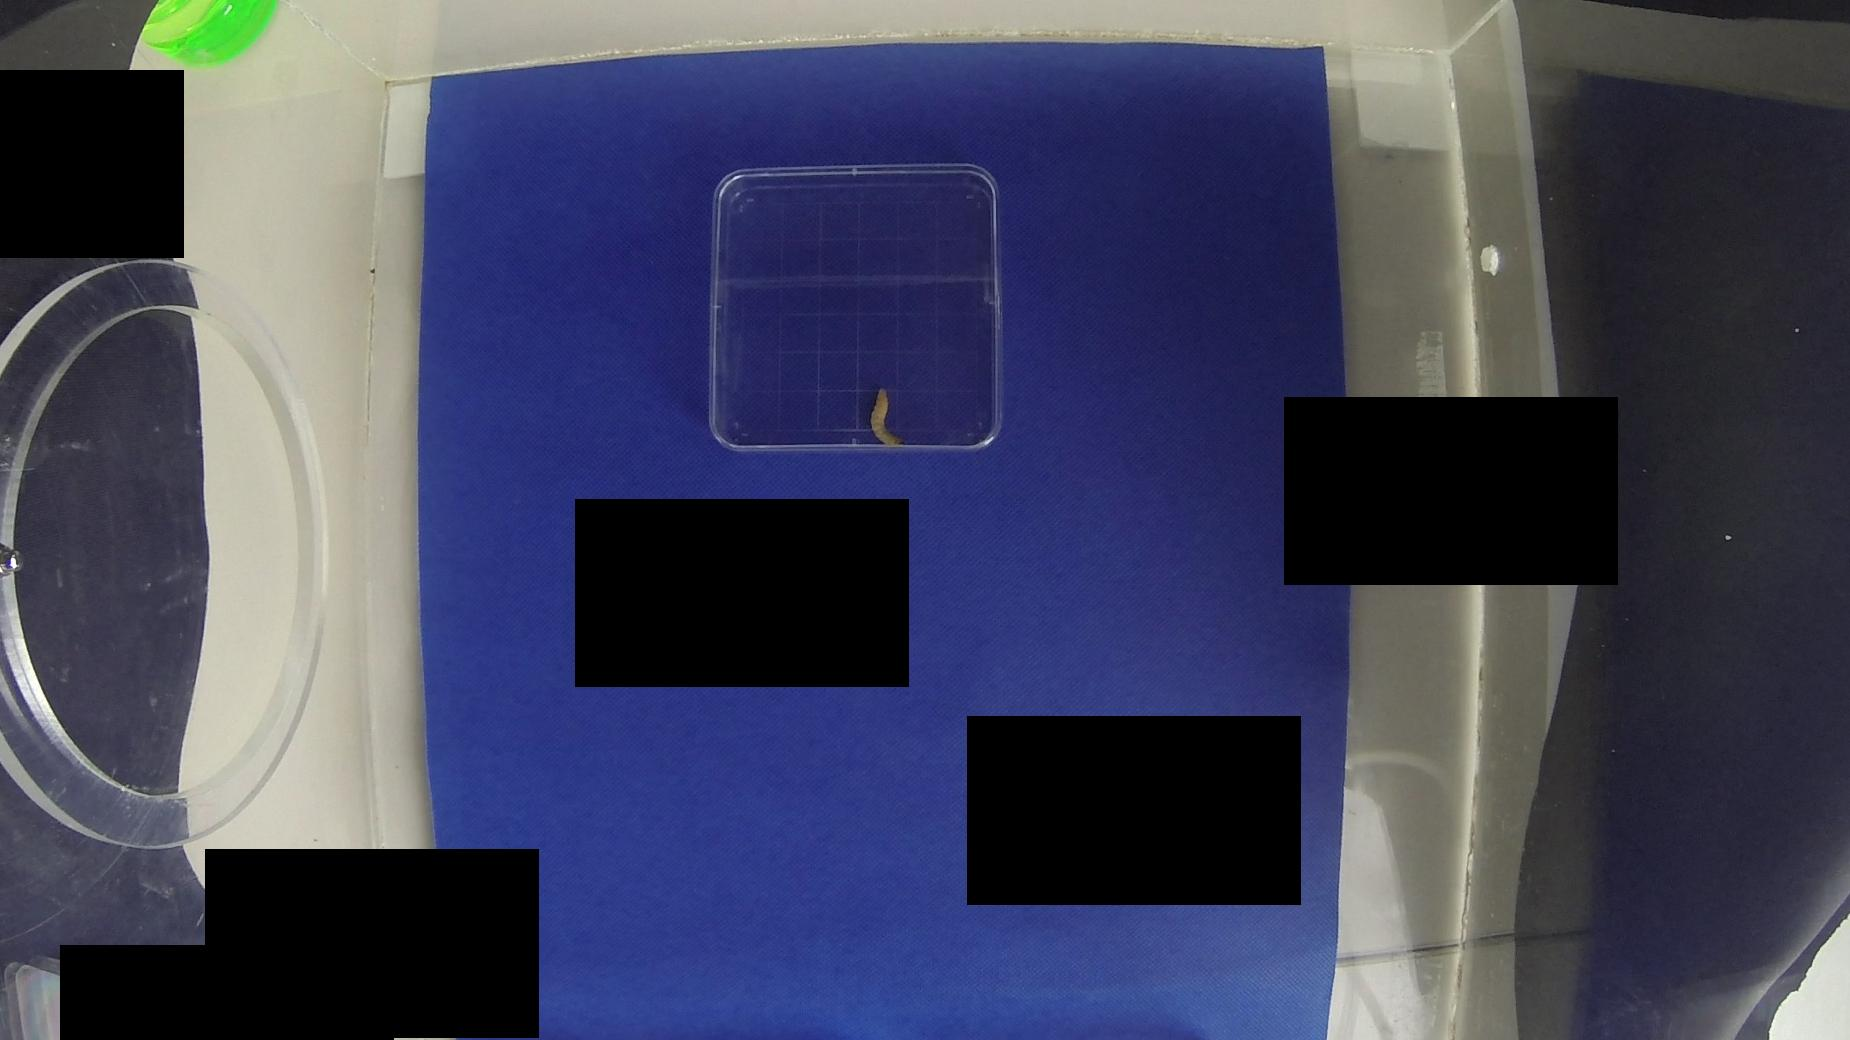larva: (131, 0, 288, 77), (868, 389, 911, 443)
